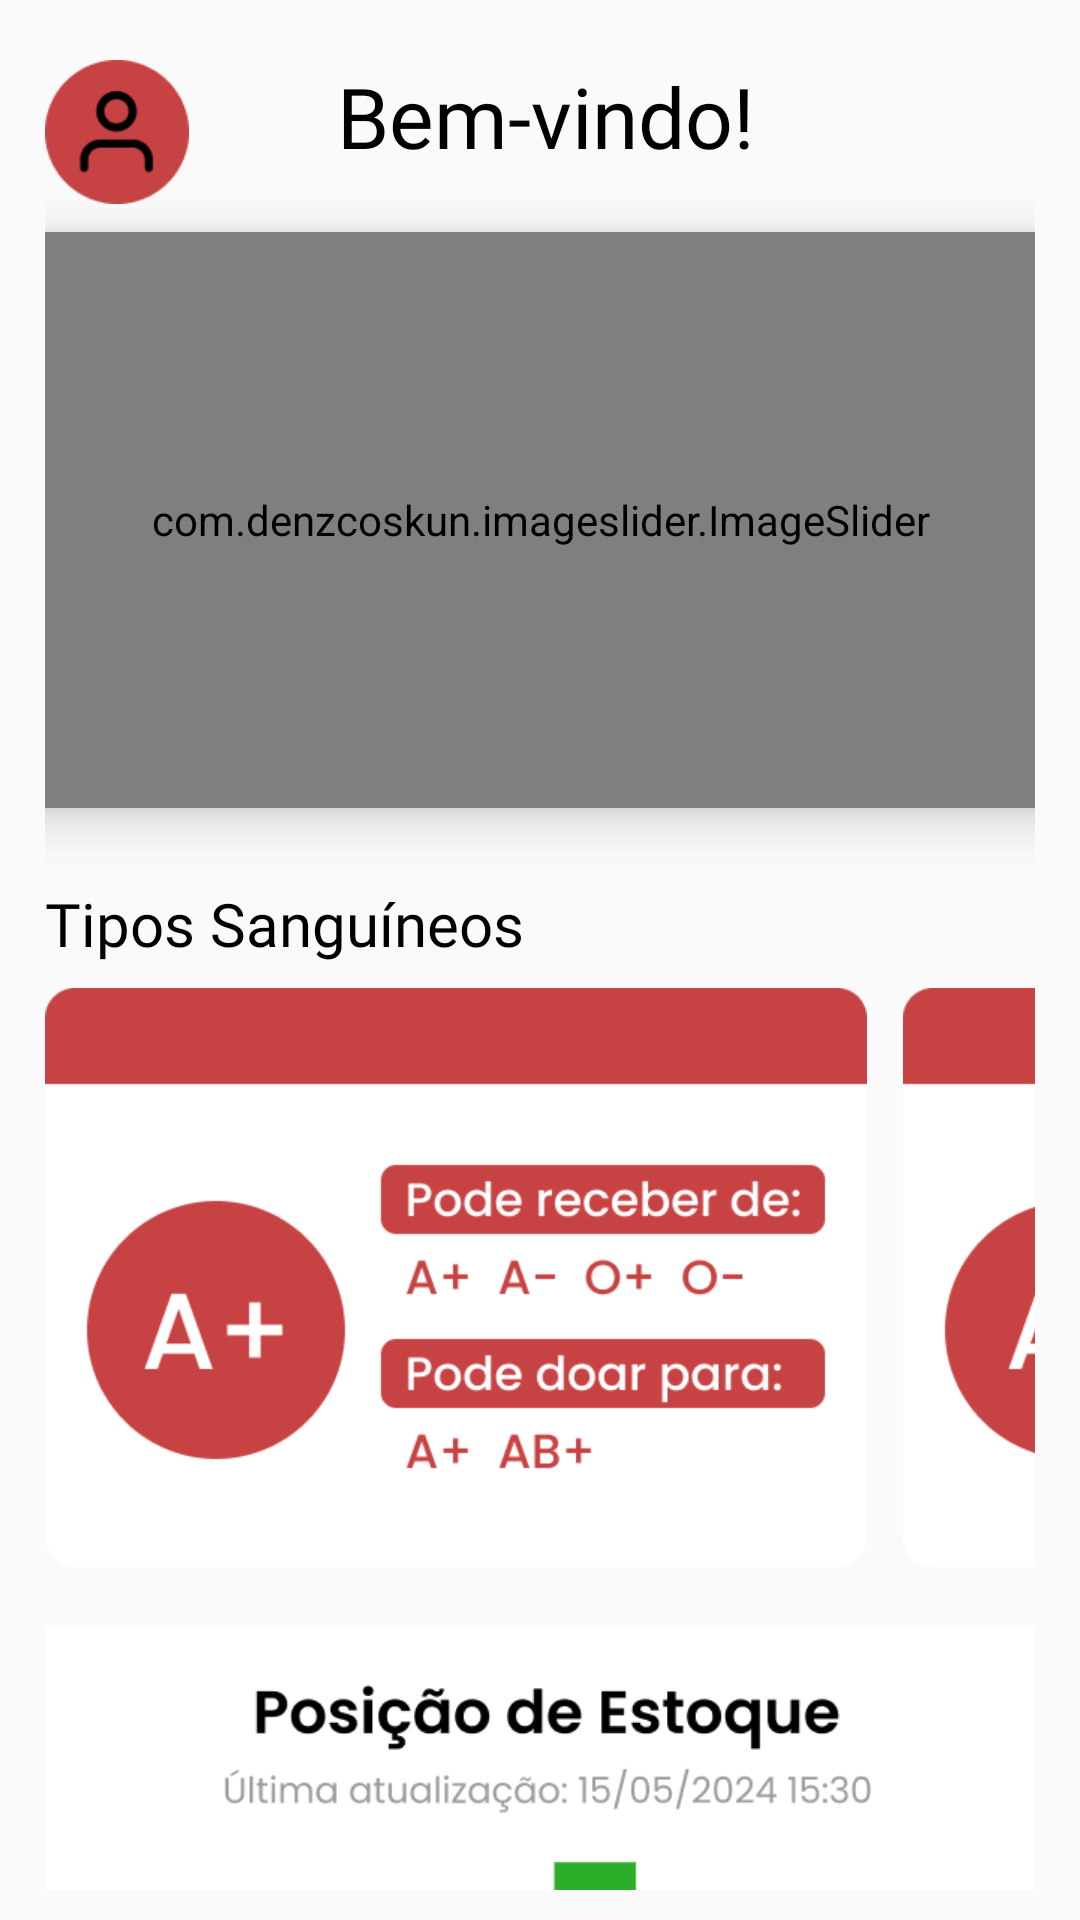

Icons on this 1080 x 1920 Android screen, each with its box as (x1, y1, x2, y2):
Ícone de usuário: (45, 60, 189, 204)
